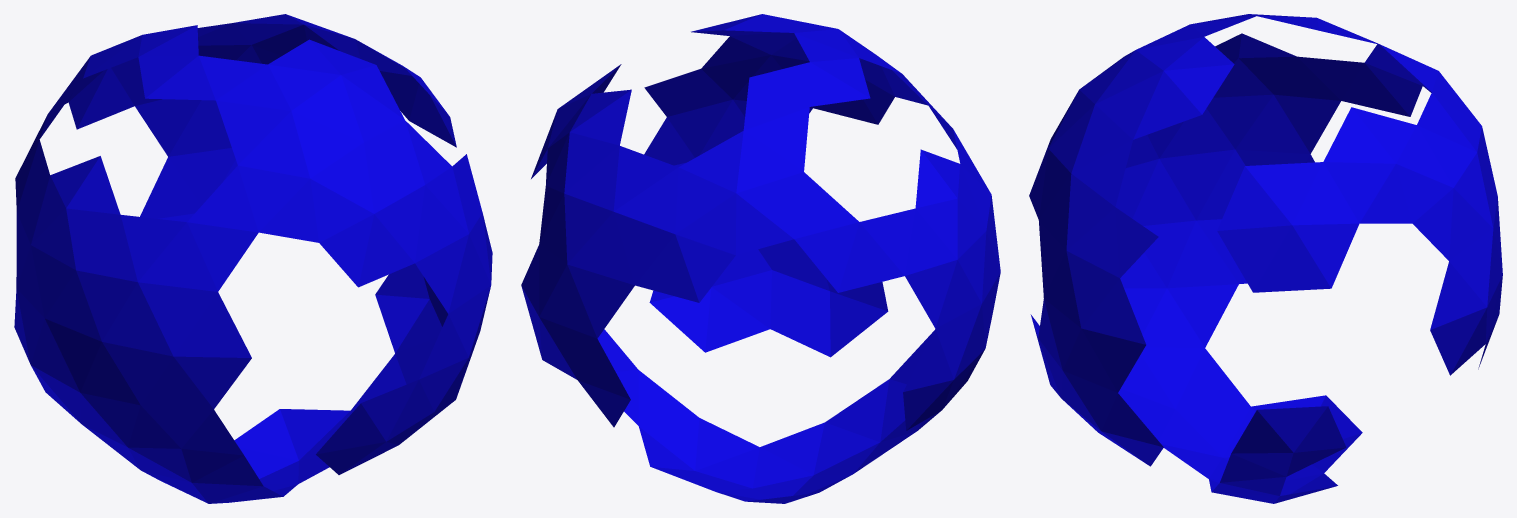
Rendered from water.glb.
3 renders of one model, left to right at view 1: azimuth 30°, elevation 25°; view 2: azimuth 150°, elevation 25°; view 3: azimuth 270°, elevation 25°, orthographic. The views are drawn at different scales.
Parts seen in each view (by area): view 1: water; view 2: water; view 3: water.
Part boxes in pixels (x1=…): water: x1=14, y1=14, x2=492, y2=503; water: x1=521, y1=14, x2=1000, y2=503; water: x1=1029, y1=14, x2=1502, y2=503.
Size of the model in its own units: 49.86 by 50.19 by 48.72.
